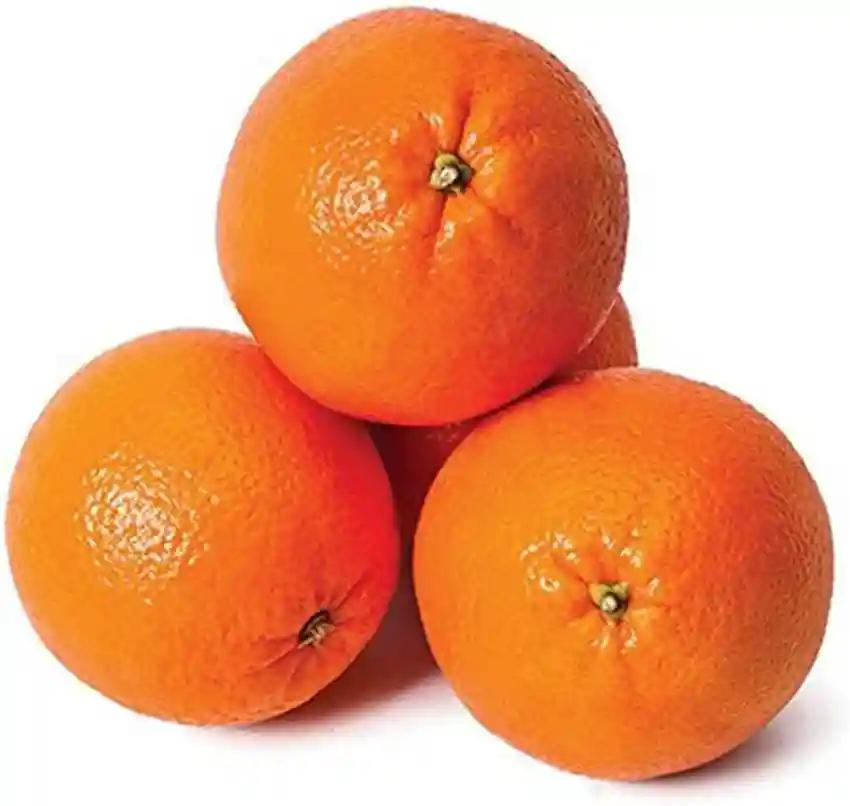non-mango: (410, 364, 835, 782), (214, 3, 631, 427), (2, 325, 401, 727)
